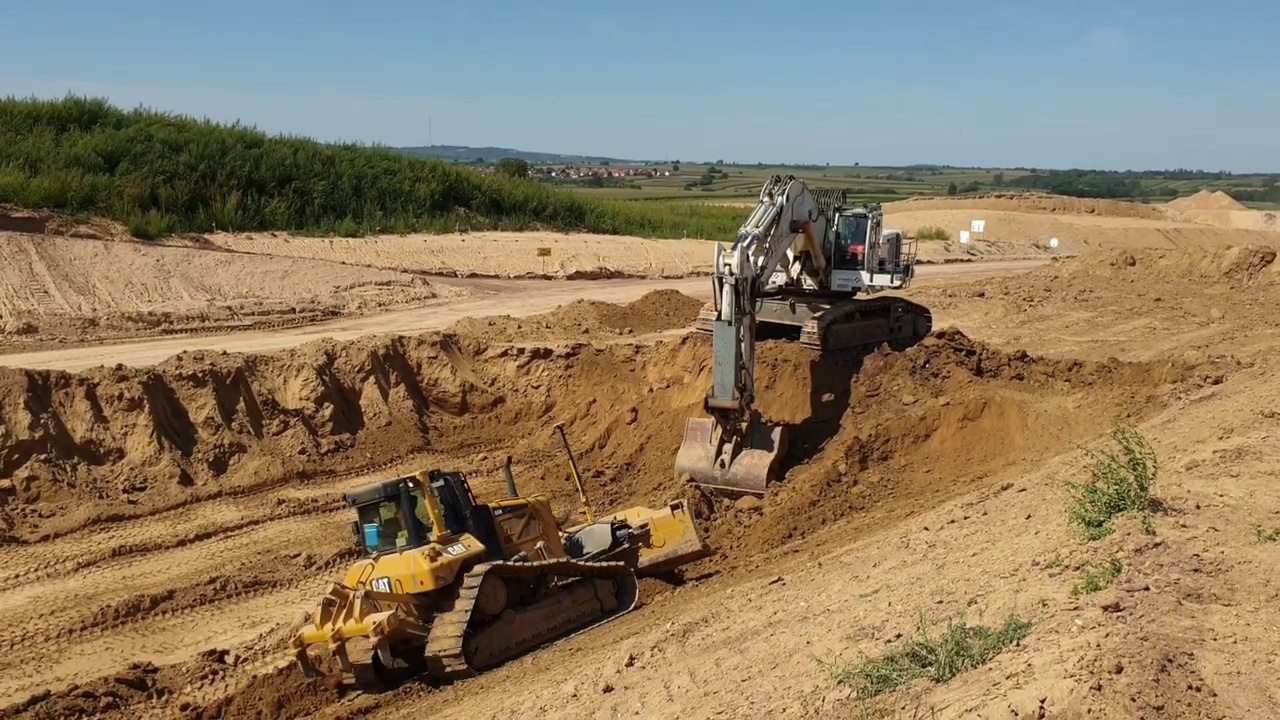bulldozer: (290, 419, 712, 693)
excavator: (670, 172, 932, 498)
